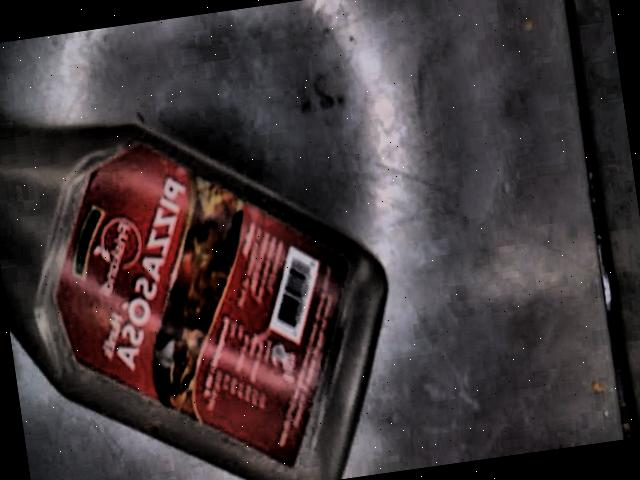Plastic: (0, 117, 390, 480)
